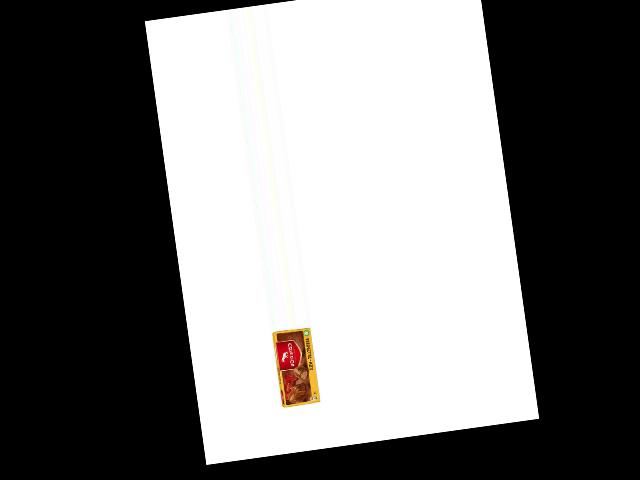chocolate: (270, 326, 327, 409)
